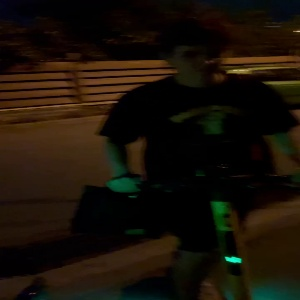human on a scooter: (69, 18, 300, 299)
